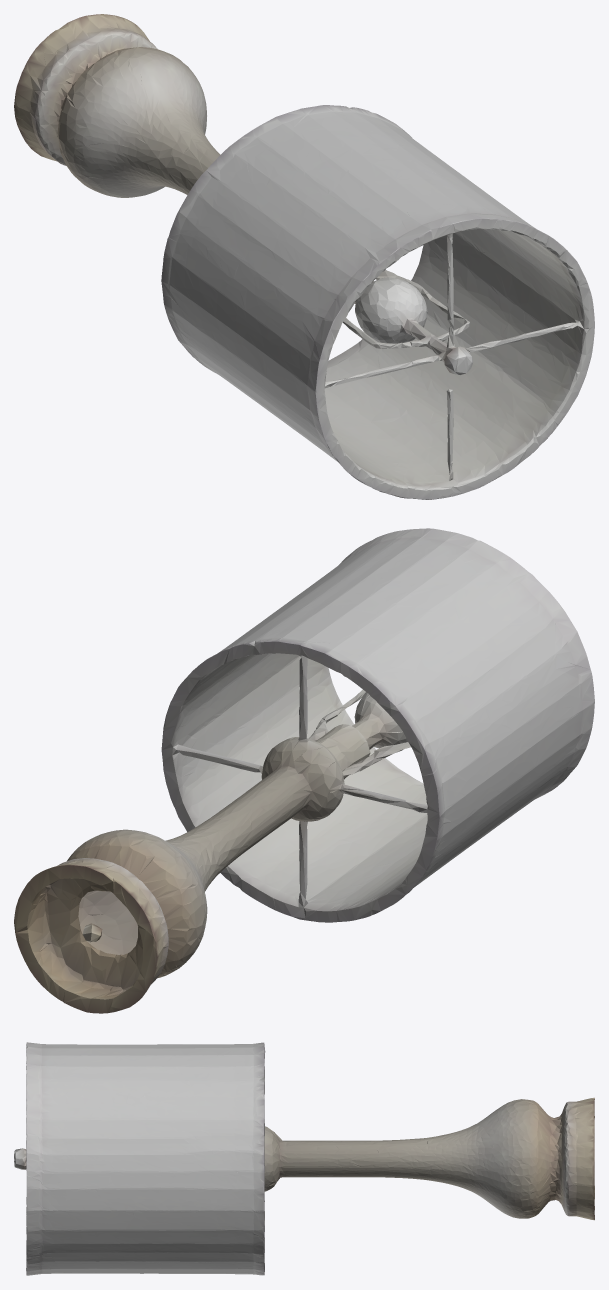
Rendered from lamp_20.glb.
The picture shows the model from 3 angles, top to bottom: view 1: azimuth 30°, elevation 25°; view 2: azimuth 150°, elevation 25°; view 3: azimuth 270°, elevation 25°; orthographic projection. The views are drawn at different scales.
Visible parts, largest first — view 1: geometry_0; view 2: geometry_0; view 3: geometry_0.
Part boxes in pixels (box(x1,y1,x2,y2)): geometry_0: box(14, 14, 594, 499); geometry_0: box(14, 528, 594, 1013); geometry_0: box(14, 1042, 594, 1275).
Size of the model in its own units: 0.3254 by 0.3054 by 0.7631.
